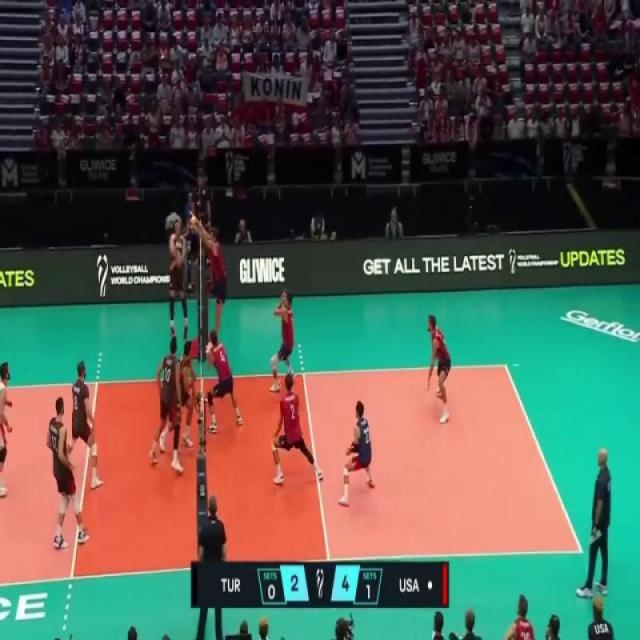volleyball: (188, 213, 200, 234)
